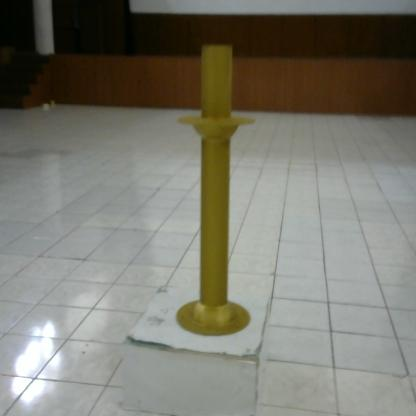pole: (174, 35, 257, 347)
